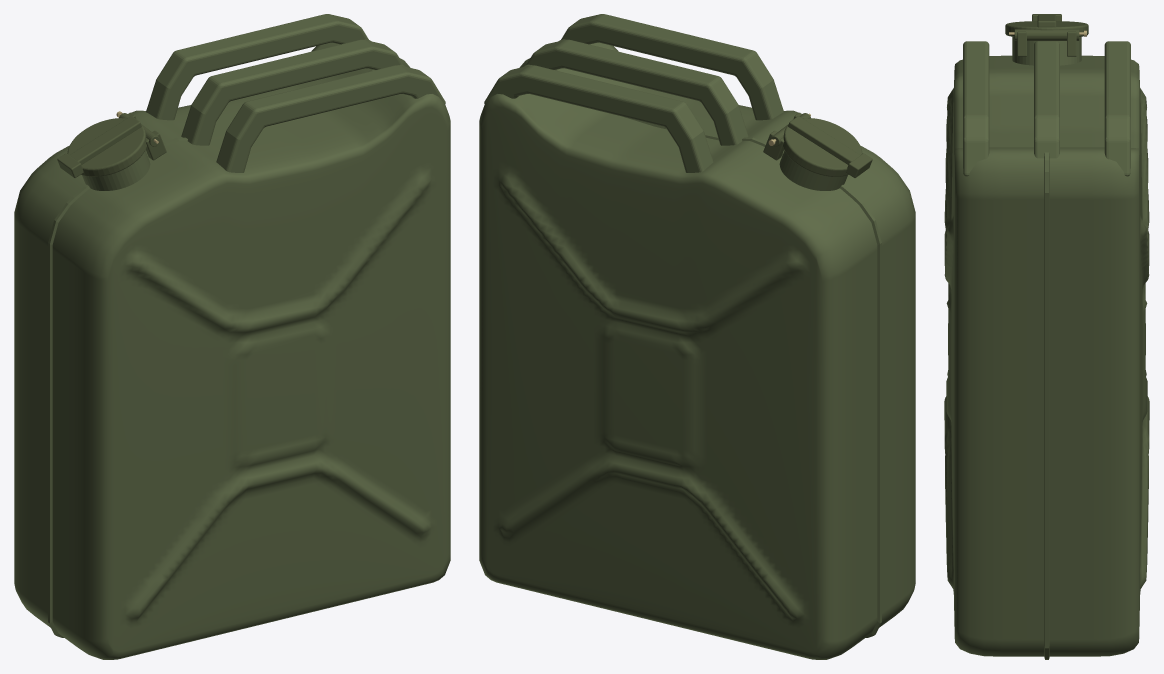
The picture shows the model from 3 angles, left to right: view 1: azimuth 30°, elevation 25°; view 2: azimuth 150°, elevation 25°; view 3: azimuth 270°, elevation 25°; orthographic projection.
Visible parts, largest first — view 1: Closed_pressed_body_with_integral_ribs, Front_bridge_handle_with_open_underside, Rear_bridge_handle_with_open_underside, Center_bridge_handle_with_open_underside, Continuous_center_weld_flange, Closed_bayonet_cap_lid, Closed_sloped_filler_neck, Closed_cam_latch_bridge; view 2: Closed_pressed_body_with_integral_ribs, Rear_bridge_handle_with_open_underside, Front_bridge_handle_with_open_underside, Center_bridge_handle_with_open_underside, Continuous_center_weld_flange, Closed_bayonet_cap_lid, Closed_sloped_filler_neck, Closed_cam_latch_bridge; view 3: Closed_pressed_body_with_integral_ribs, Front_bridge_handle_with_open_underside, Rear_bridge_handle_with_open_underside, Continuous_center_weld_flange, Center_bridge_handle_with_open_underside, Closed_sloped_filler_neck, Closed_bayonet_cap_lid, Cap_hinge_axle.
Part boxes in pixels (x1,y1,x2,y2): Closed_pressed_body_with_integral_ribs: [14, 39, 450, 659]; Front_bridge_handle_with_open_underside: [216, 65, 445, 172]; Rear_bridge_handle_with_open_underside: [146, 14, 368, 120]; Center_bridge_handle_with_open_underside: [181, 39, 403, 145]; Continuous_center_weld_flange: [48, 58, 410, 637]; Closed_bayonet_cap_lid: [67, 118, 146, 176]; Closed_sloped_filler_neck: [82, 150, 150, 190]; Closed_cam_latch_bridge: [69, 116, 141, 164]; Closed_pressed_body_with_integral_ribs: [479, 39, 915, 659]; Rear_bridge_handle_with_open_underside: [484, 65, 713, 172]; Front_bridge_handle_with_open_underside: [561, 14, 783, 120]; Center_bridge_handle_with_open_underside: [526, 39, 748, 145]; Continuous_center_weld_flange: [519, 58, 881, 637]; Closed_bayonet_cap_lid: [783, 118, 862, 176]; Closed_sloped_filler_neck: [779, 150, 847, 190]; Closed_cam_latch_bridge: [788, 116, 860, 164]; Closed_pressed_body_with_integral_ribs: [944, 55, 1149, 656]; Front_bridge_handle_with_open_underside: [963, 41, 989, 176]; Rear_bridge_handle_with_open_underside: [1104, 41, 1130, 176]; Continuous_center_weld_flange: [1044, 152, 1049, 659]; Center_bridge_handle_with_open_underside: [1034, 41, 1059, 158]; Closed_sloped_filler_neck: [1012, 36, 1081, 65]; Closed_bayonet_cap_lid: [1005, 21, 1088, 36]; Cap_hinge_axle: [1014, 29, 1079, 40].
Size of the model in its own units: 0.345 by 0.468 by 0.165.
